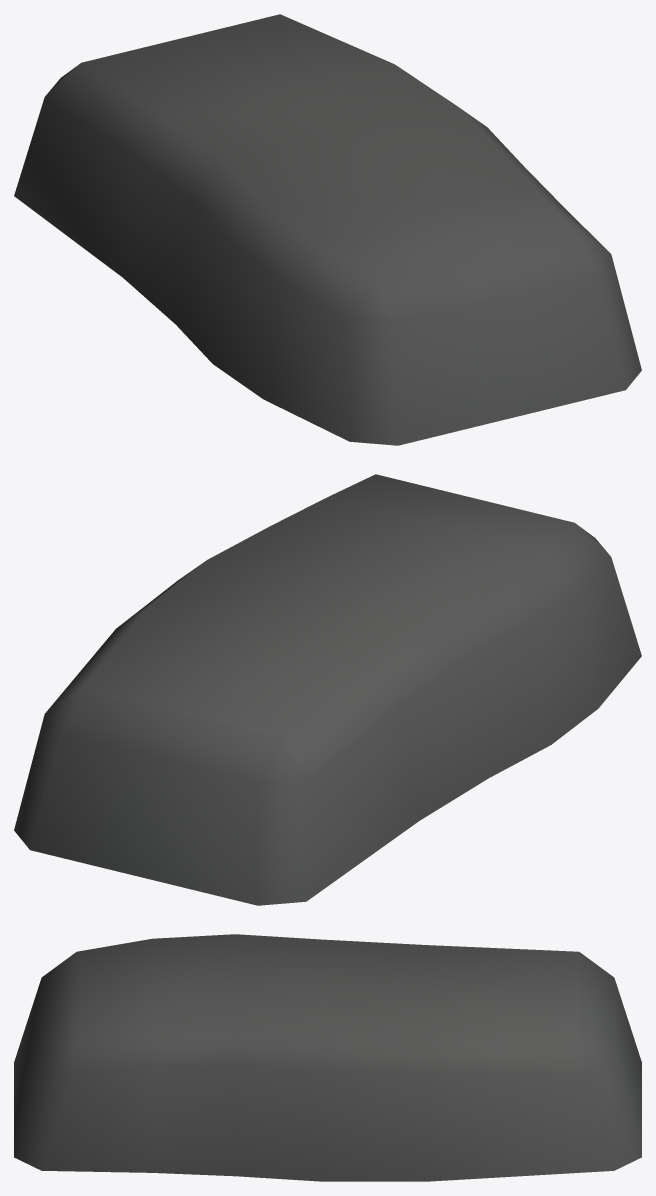
Rendered from Brick_3_1.glb.
The picture shows the model from 3 angles, top to bottom: view 1: azimuth 30°, elevation 25°; view 2: azimuth 150°, elevation 25°; view 3: azimuth 270°, elevation 25°; orthographic projection. The views are drawn at different scales.
Visible parts, largest first — view 1: Brick_3_1; view 2: Brick_3_1; view 3: Brick_3_1.
Part boxes in pixels (x1=…): Brick_3_1: x1=14, y1=14, x2=641, y2=445; Brick_3_1: x1=14, y1=474, x2=641, y2=905; Brick_3_1: x1=14, y1=934, x2=641, y2=1181.
Bounding box in the file's own units: 0.1606 × 0.0674 × 0.2997.
1 material, 1 textured.
